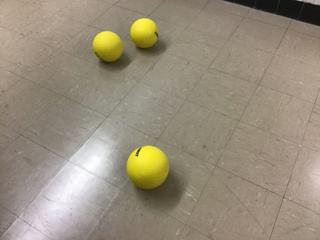power_cell: (126, 144, 174, 192), (128, 16, 163, 52), (93, 31, 124, 64)
